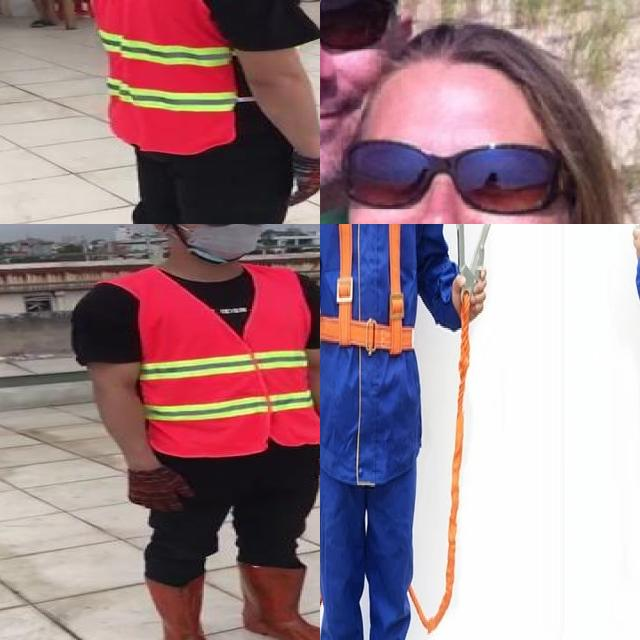Harness: (320, 224, 418, 357)
boots: (238, 560, 320, 640), (140, 575, 227, 640)
face_mask: (181, 224, 272, 259)
face_nomask: (333, 132, 576, 224), (320, 0, 383, 144)
glasses: (338, 135, 557, 224), (320, 0, 394, 59), (183, 224, 277, 230)
hand_glove: (128, 467, 195, 514), (287, 153, 320, 206)
head_nohelmet: (336, 18, 589, 109)
person: (57, 224, 320, 640), (68, 0, 320, 224)
vest: (140, 264, 320, 457), (86, 0, 257, 153)
